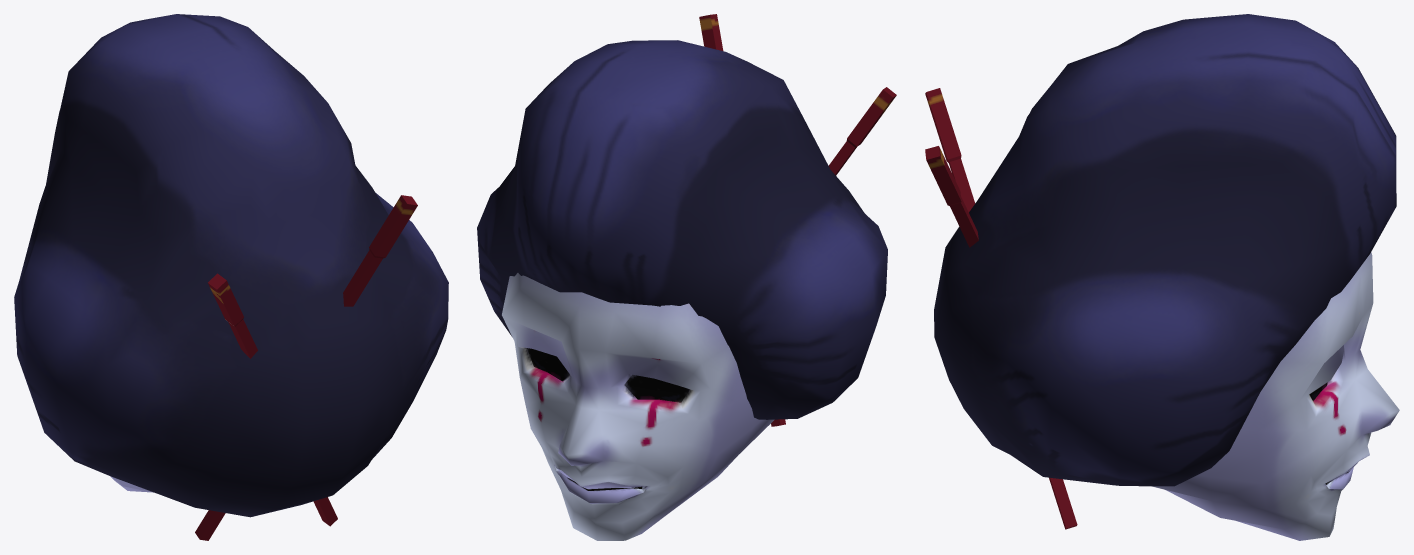
File: ghosthead2.gltf
3 views of the same model, side by side, from view 1: azimuth 30°, elevation 25°; view 2: azimuth 150°, elevation 25°; view 3: azimuth 270°, elevation 25° (orthographic). The views are drawn at different scales.
Visible parts, largest first — view 1: Hair, Pins; view 2: Hair, Head, Pins; view 3: Hair, Head, Pins.
Part boxes in pixels (box(x1,y1,x2,y2)): Hair: box(14, 14, 448, 517); Pins: box(195, 195, 417, 540); Hair: box(477, 40, 887, 419); Head: box(502, 273, 774, 540); Pins: box(699, 14, 896, 426); Hair: box(934, 14, 1396, 486); Head: box(1152, 252, 1399, 540); Pins: box(925, 88, 1077, 529).
Size of the model in its own units: 1.77 by 2.1 by 1.83.
1 material, 1 textured.
